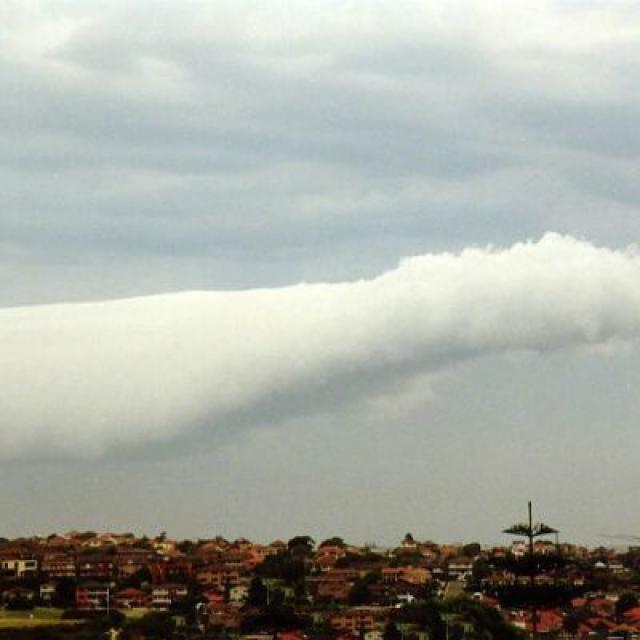Sc: (1, 135, 640, 474)
